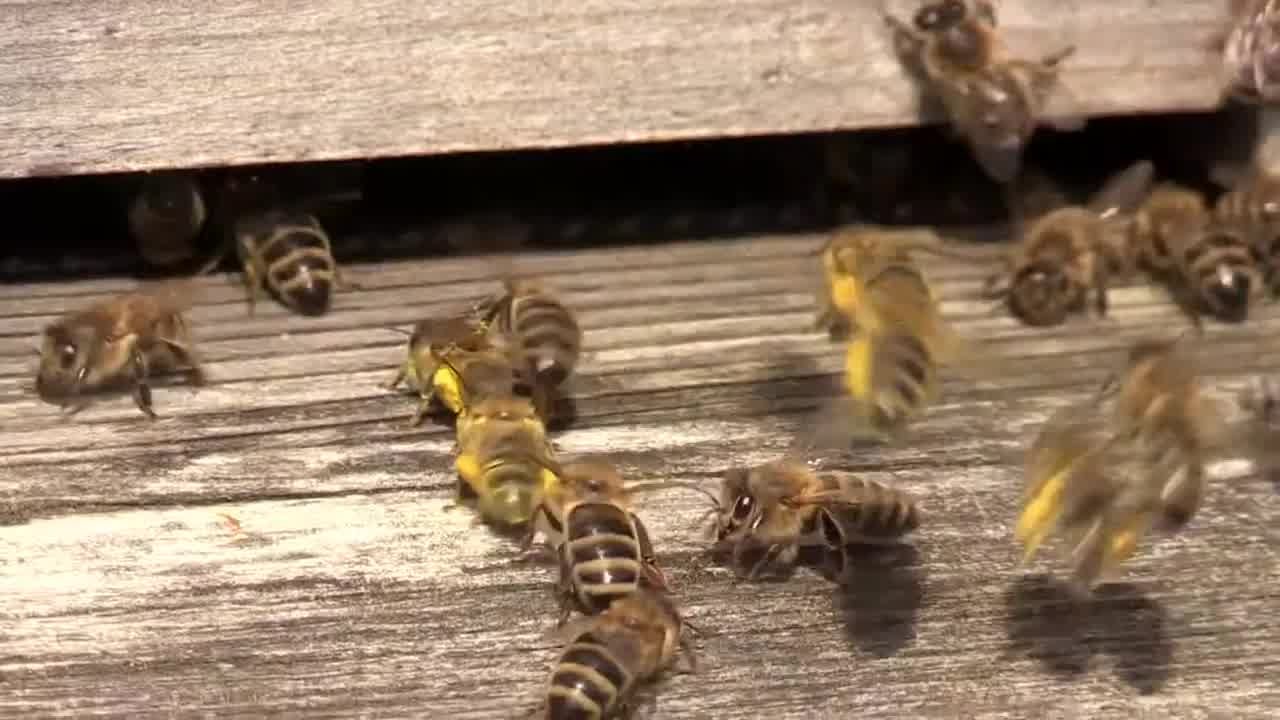pollen: (1008, 392, 1139, 589), (805, 209, 960, 328), (844, 274, 953, 437), (433, 407, 572, 521), (398, 295, 517, 402)
